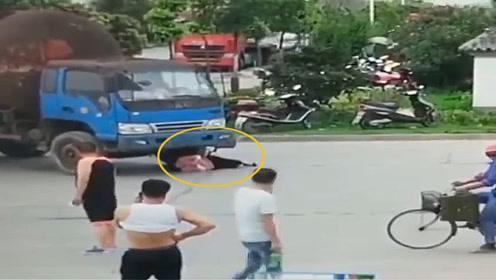Fall-Detected: (161, 144, 259, 173)
